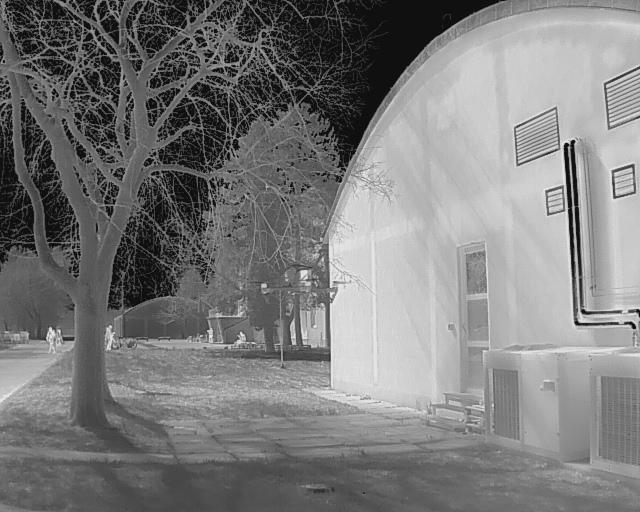drone: (244, 253, 354, 323)
